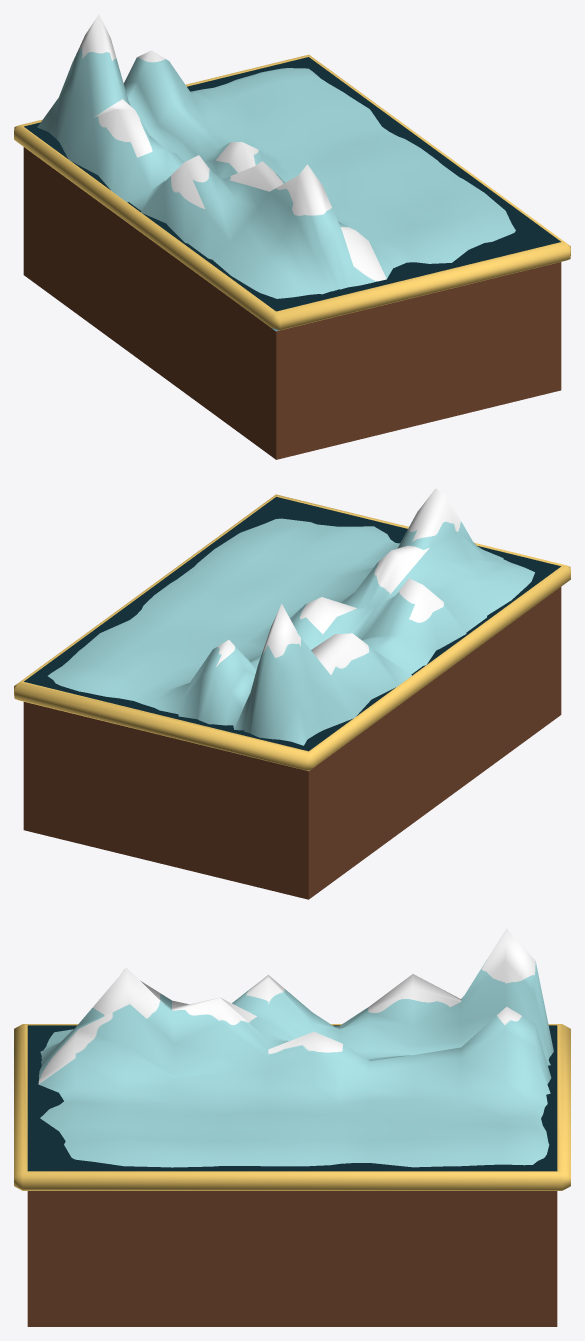
The model's file is ArcticIsland.glb.
3 renders of one model, top to bottom at view 1: azimuth 30°, elevation 25°; view 2: azimuth 150°, elevation 25°; view 3: azimuth 270°, elevation 25°, orthographic. The views are drawn at different scales.
Parts seen in each view (by area): view 1: Cube; view 2: Cube; view 3: Cube.
Boxes of the visible parts, x1=… form: Cube: x1=14, y1=14, x2=570, y2=459; Cube: x1=14, y1=488, x2=570, y2=899; Cube: x1=14, y1=928, x2=570, y2=1326.
Bounding box in the file's own units: 2.1 × 1.78 × 3.23.
1 material, 1 textured.
